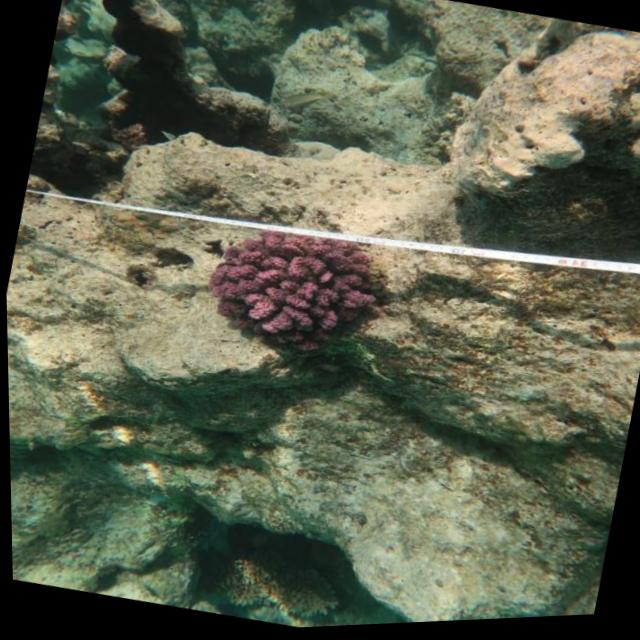Healthy Coral: (184, 207, 407, 382)
